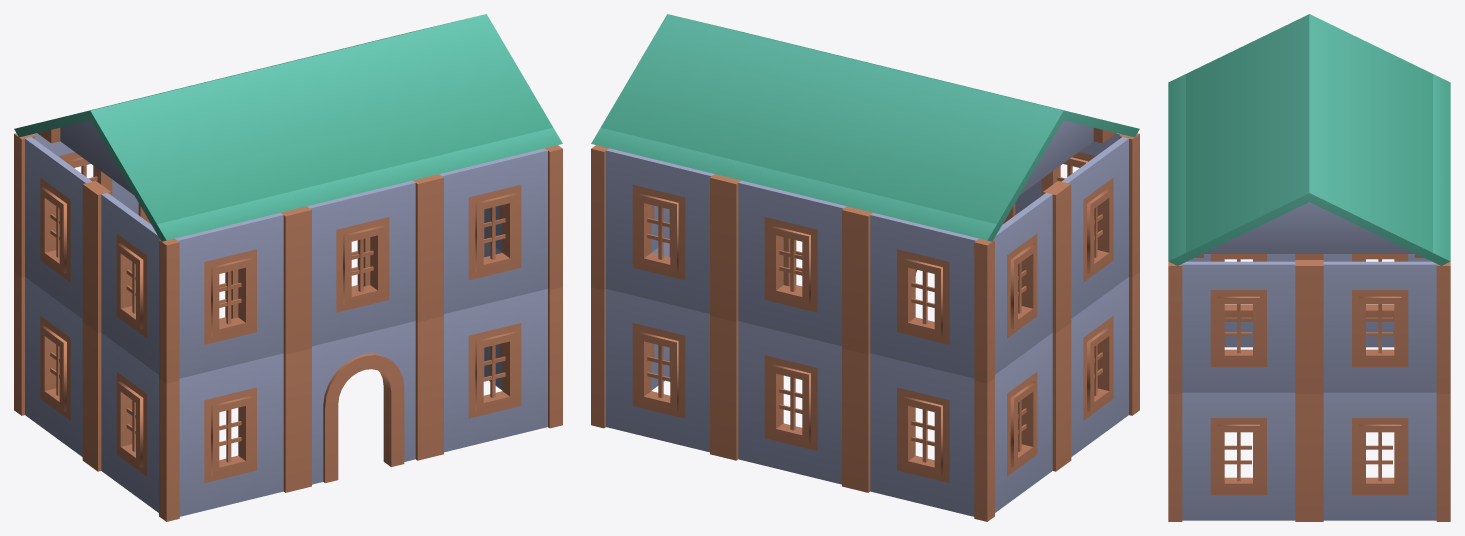
File: near-3.glb
The picture shows the model from 3 angles, left to right: view 1: azimuth 30°, elevation 25°; view 2: azimuth 150°, elevation 25°; view 3: azimuth 270°, elevation 25°; orthographic projection. The views are drawn at different scales.
Parts seen in each view (by area): view 1: wall-window-glass; view 2: wall-window-glass; view 3: wall-window-glass.
Part boxes in pixels (bbox=[...]): wall-window-glass: bbox=[14, 14, 562, 521]; wall-window-glass: bbox=[591, 14, 1139, 521]; wall-window-glass: bbox=[1168, 14, 1450, 521].
Size of the model in its own units: 3 by 2.57 by 2.
1 material, 1 textured.
